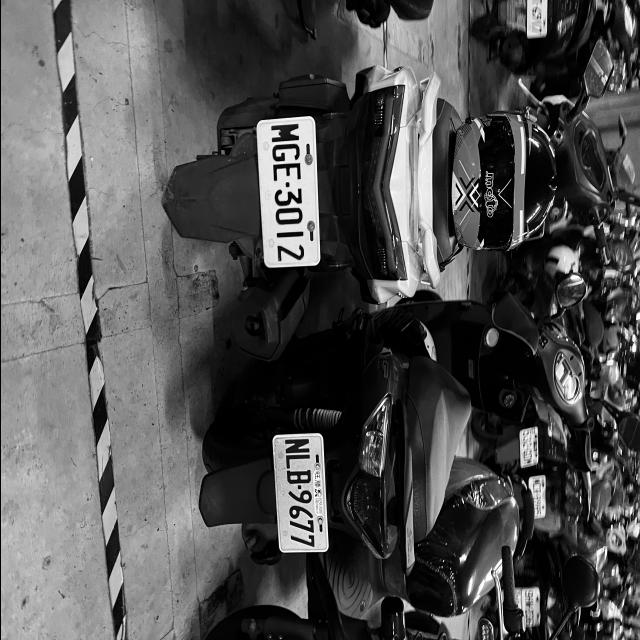-: (274, 208, 302, 227), (296, 484, 302, 490), (284, 180, 288, 188)
2: (274, 244, 307, 264), (274, 228, 304, 240)
3: (274, 187, 304, 207)
6: (288, 505, 312, 519)
7: (289, 534, 314, 548), (288, 518, 313, 532)
9: (288, 489, 313, 504)
B: (286, 469, 312, 485)
E: (272, 162, 301, 180)
G: (270, 142, 300, 164)
L: (284, 454, 310, 469)
M: (270, 122, 300, 143)
N: (284, 438, 310, 453)
plate: (262, 113, 314, 270), (276, 436, 318, 551), (516, 429, 540, 472), (521, 586, 539, 628)
